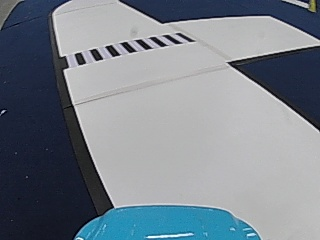CrossWalk: (67, 32, 189, 66)
